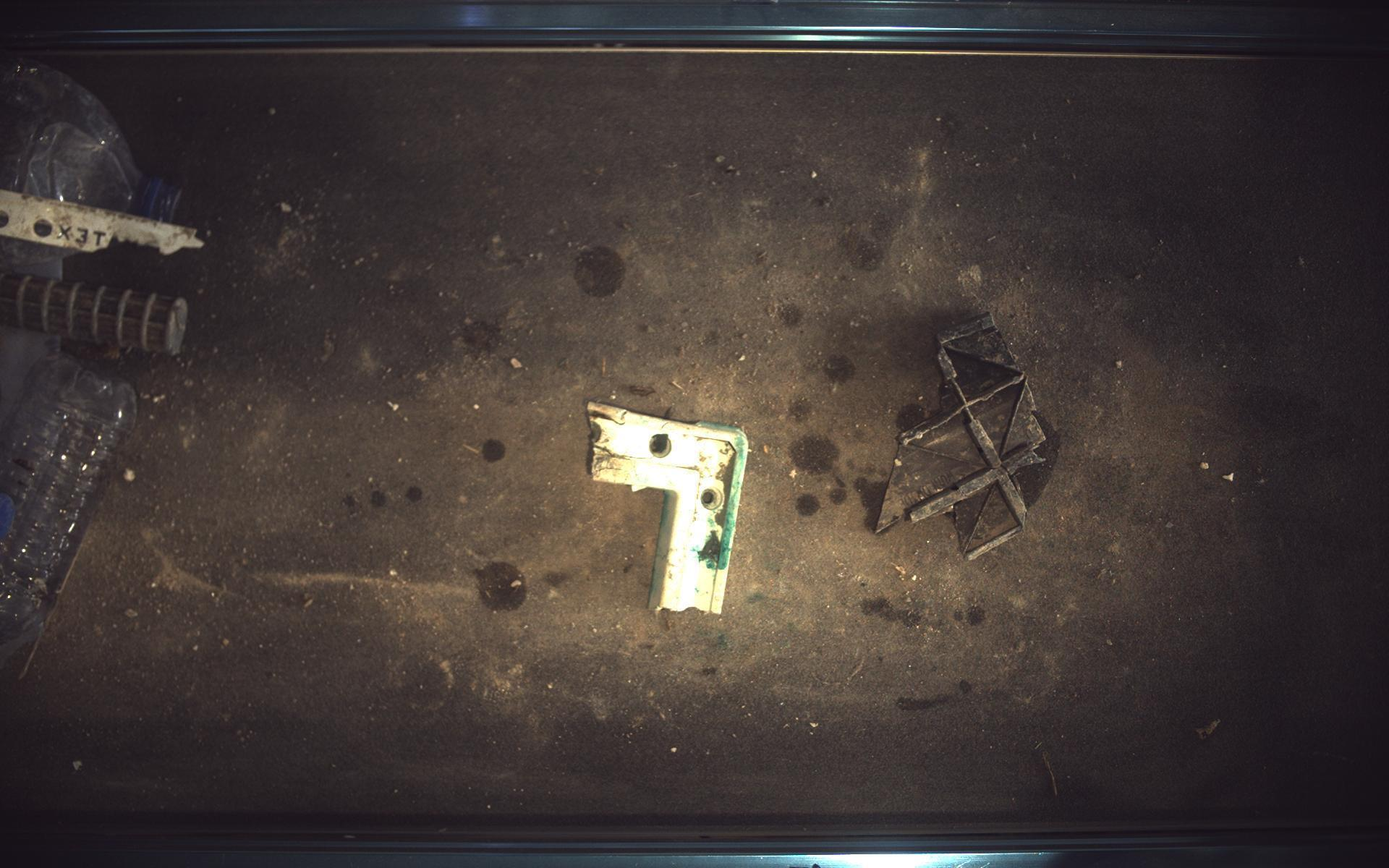general_w: (1, 352, 135, 667), (1, 54, 179, 221)
plastic: (878, 313, 1062, 560), (587, 402, 749, 615), (1, 273, 187, 354), (1, 189, 202, 254)
